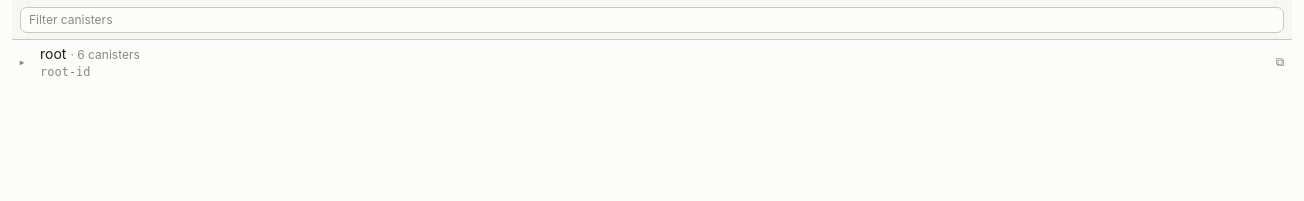
Test case: filtering narrows the fleet to matches and their ancestors
The width and height of the screenshot is (1304, 201).
Type "user_shard" into the search field labelled "Filter canisters" at (652, 20), box [20,7,1284,33]
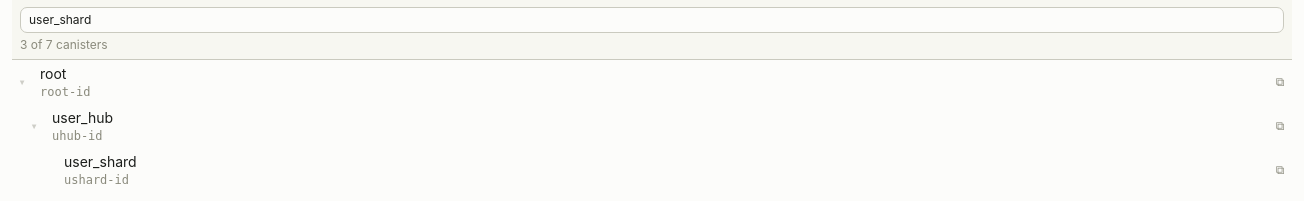
Expected: the text "root" is shown, [40,65,66,82]
Result: the text "user_shard" is shown at [64,153,137,170]
Result: the text "user_hub" is shown at [52,109,113,126]
